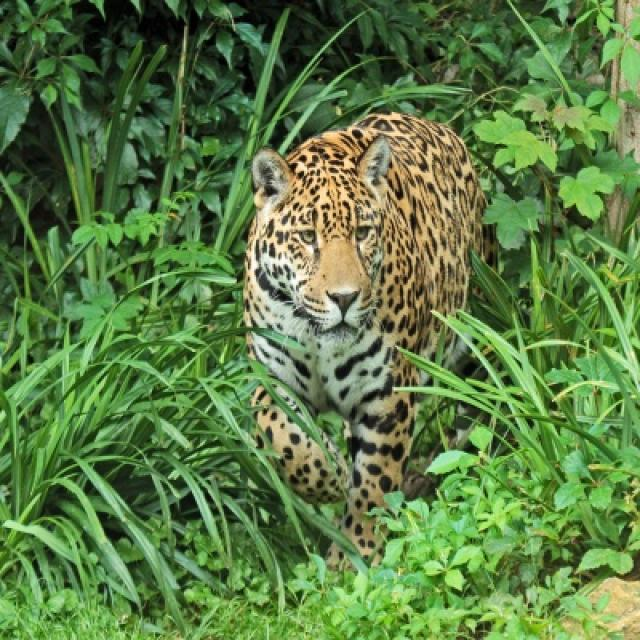Jaguar: (242, 112, 491, 554)
